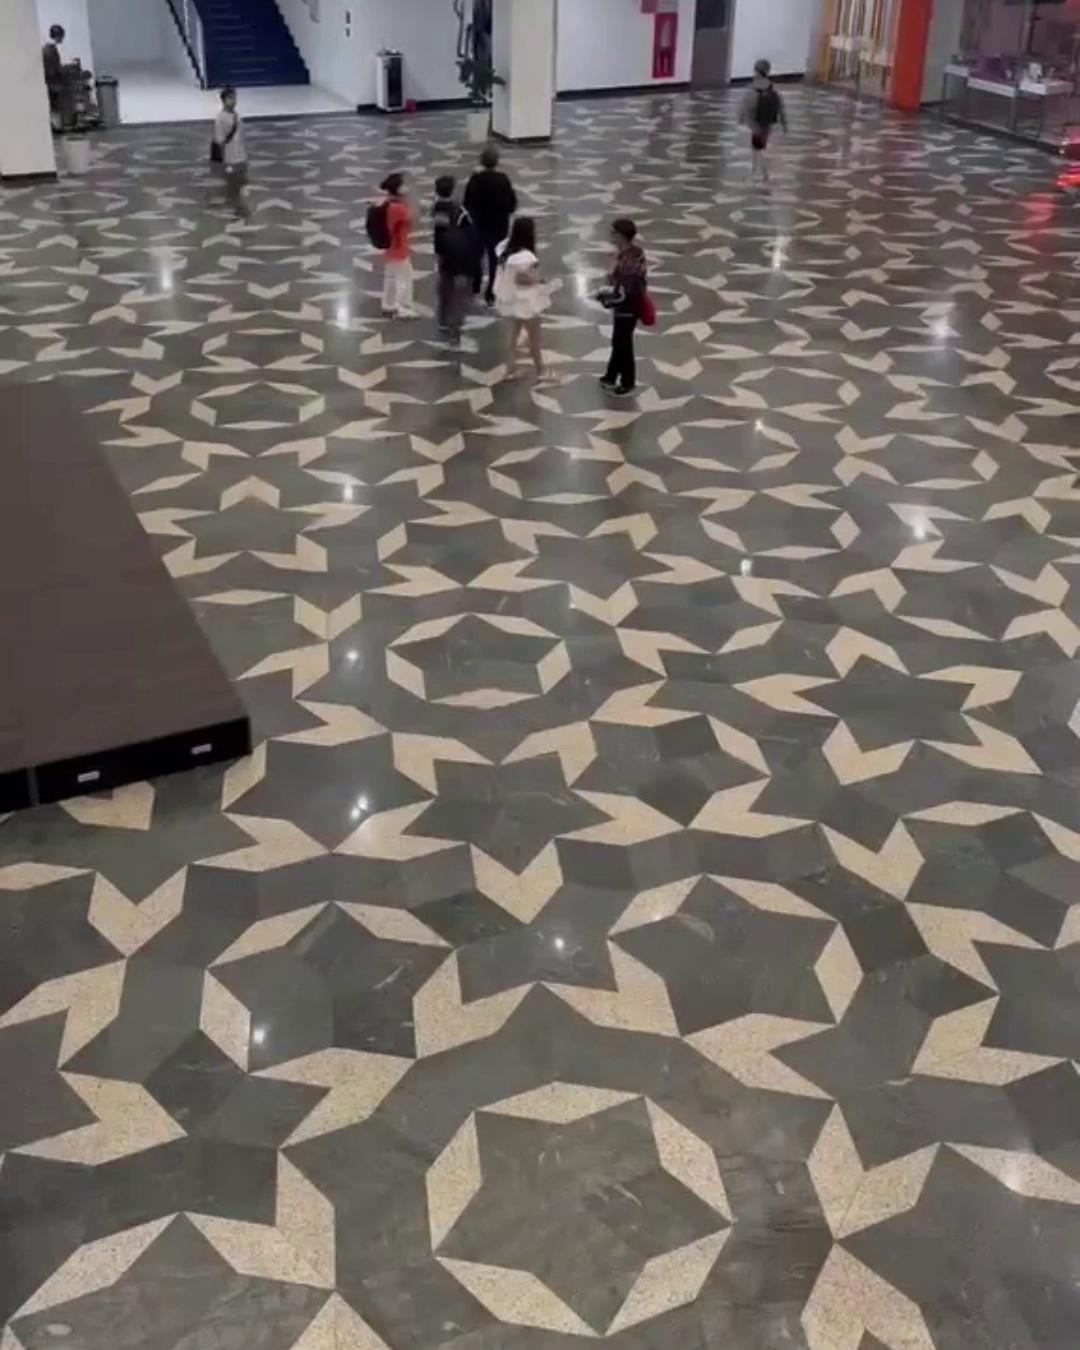your_class: (492, 216, 558, 382), (595, 216, 652, 398), (365, 171, 422, 322), (464, 149, 516, 304), (430, 175, 473, 334), (208, 86, 252, 218), (739, 60, 782, 185), (43, 23, 69, 122)
